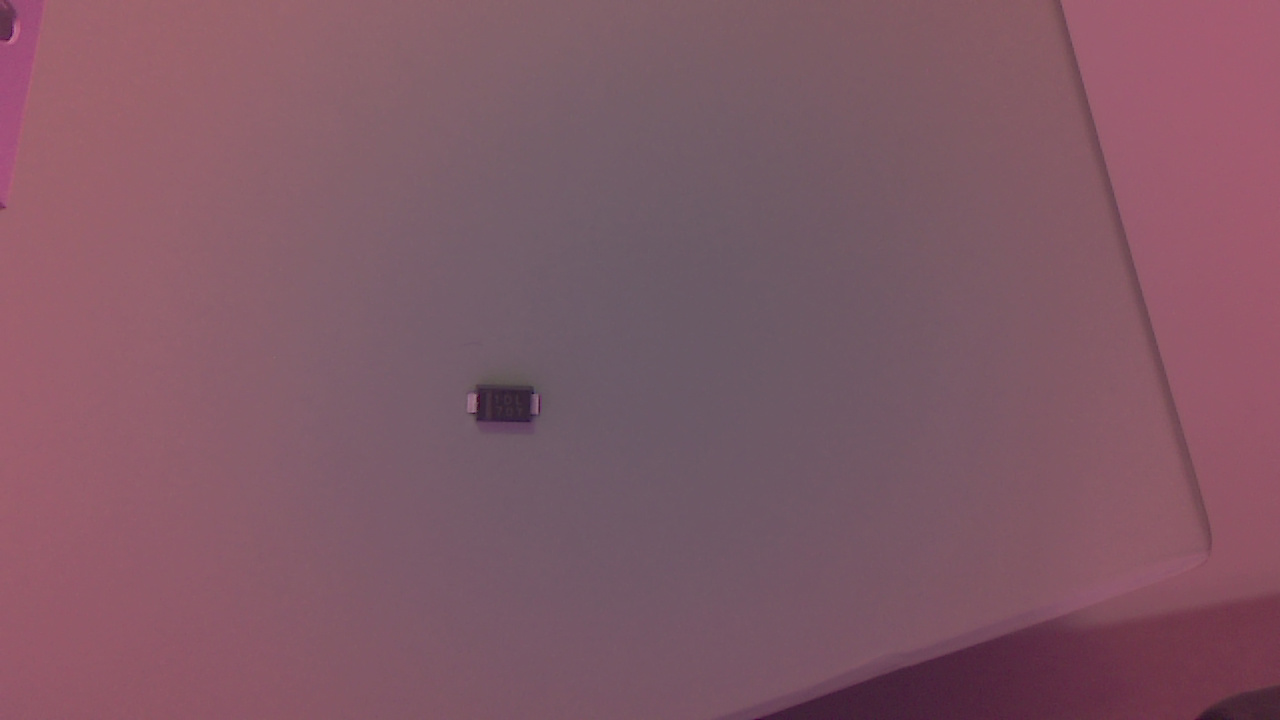Diode: (470, 380, 550, 434)
